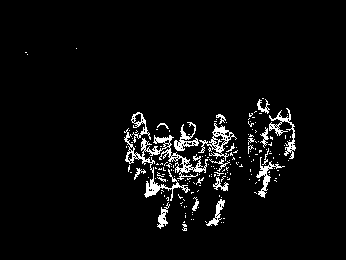person: (171, 119, 208, 234), (205, 112, 242, 227), (257, 102, 299, 200), (145, 122, 176, 227), (247, 94, 274, 187), (122, 111, 152, 180)
